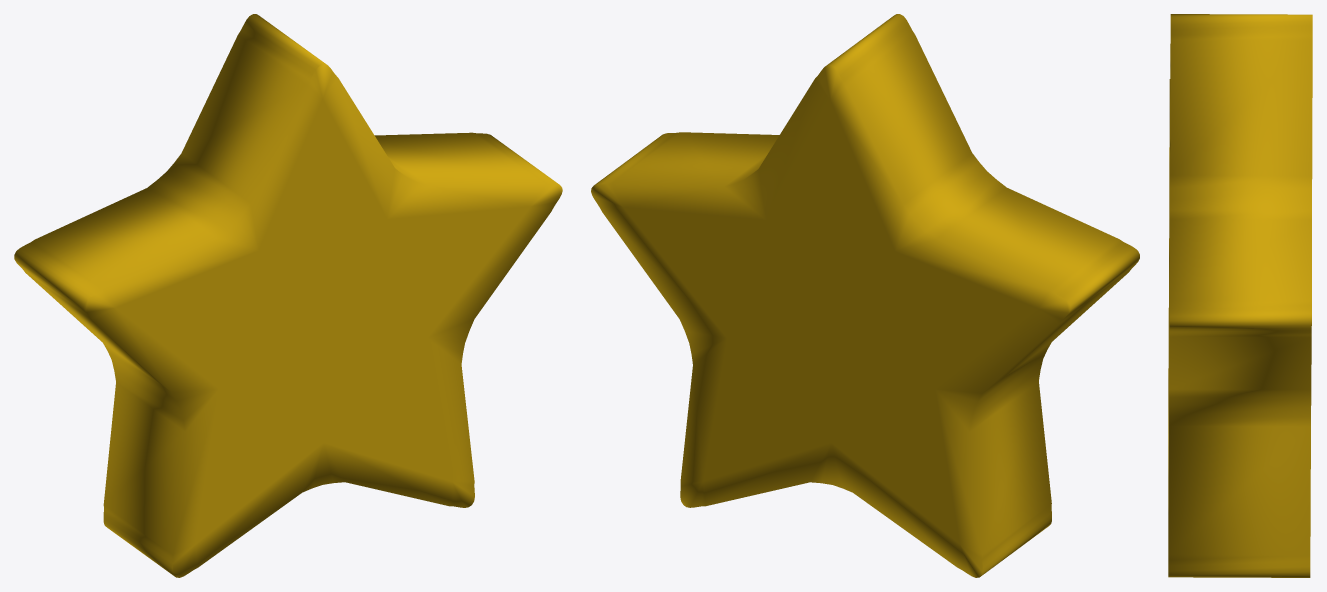
Rendered from rotating_star.fbx.
The picture shows the model from 3 angles, left to right: view 1: azimuth 30°, elevation 25°; view 2: azimuth 150°, elevation 25°; view 3: azimuth 270°, elevation 25°; orthographic projection. The views are drawn at different scales.
Visible parts, largest first — view 1: Vert_0; view 2: Vert_0; view 3: Vert_0.
Part boxes in pixels (x1,y1,x2,y2): Vert_0: [14, 14, 562, 577]; Vert_0: [591, 14, 1139, 577]; Vert_0: [1168, 14, 1312, 577].
Bounding box in the file's own units: 1.28 × 1.22 × 0.3257.
